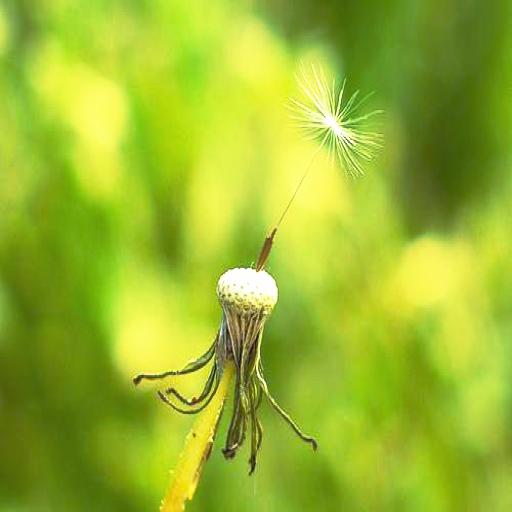dandelion: (285, 57, 382, 174)
